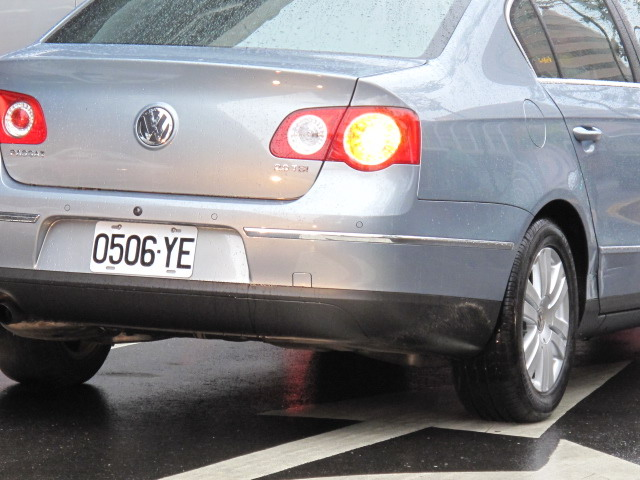plate: (89, 218, 199, 279)
